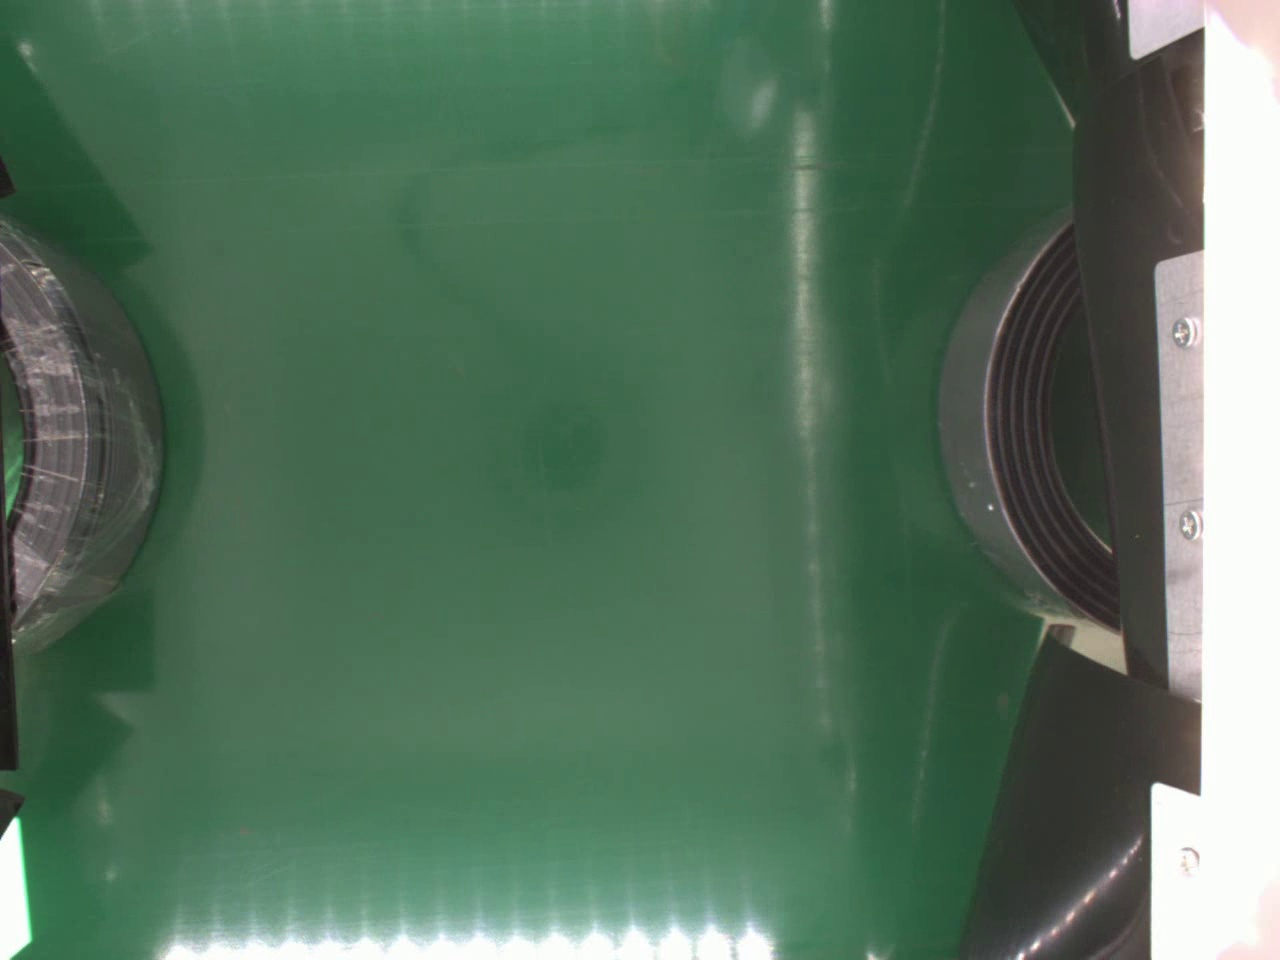black: (933, 195, 1121, 629), (0, 219, 167, 668)
